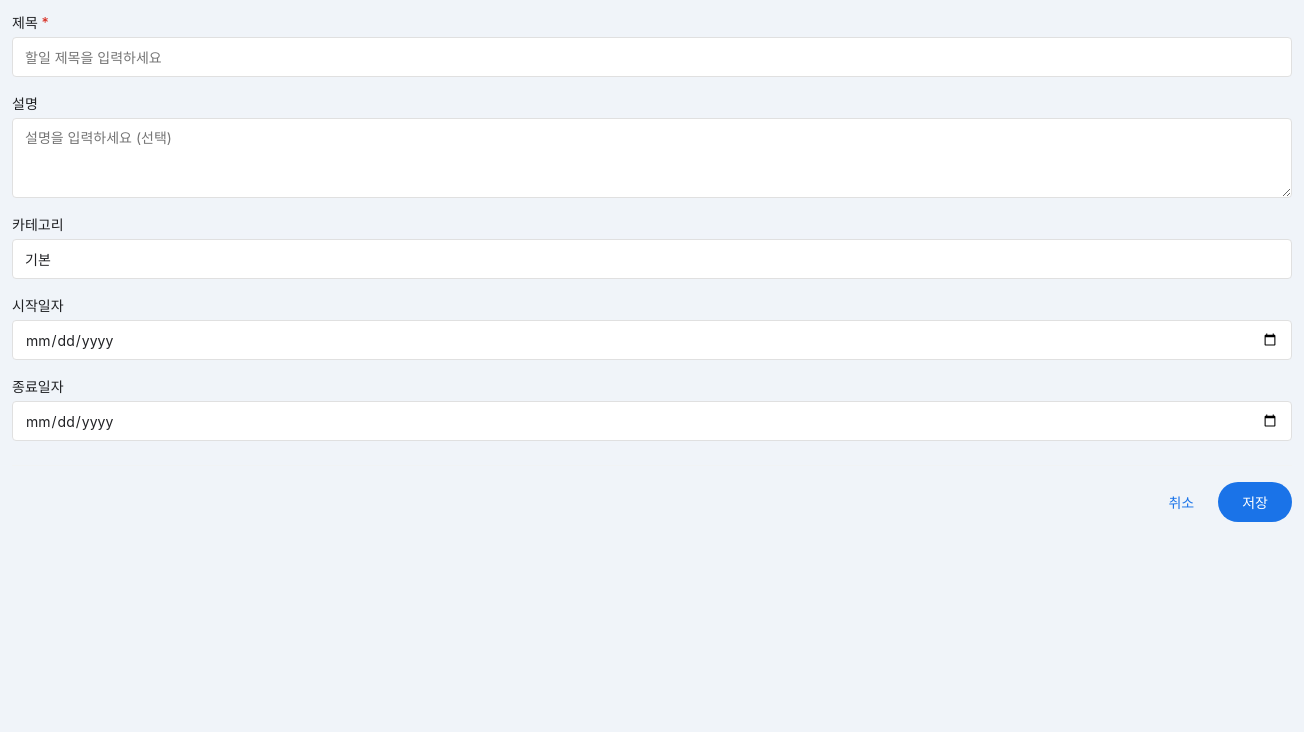
Test case: TodoForm - create 모드 › 제목 없이 저장하면 필수 항목 에러가 표시된다
This screenshot has width=1304, height=732.
Click the button "저장": (1255, 502) x1=1218 y1=482 x2=1292 y2=522
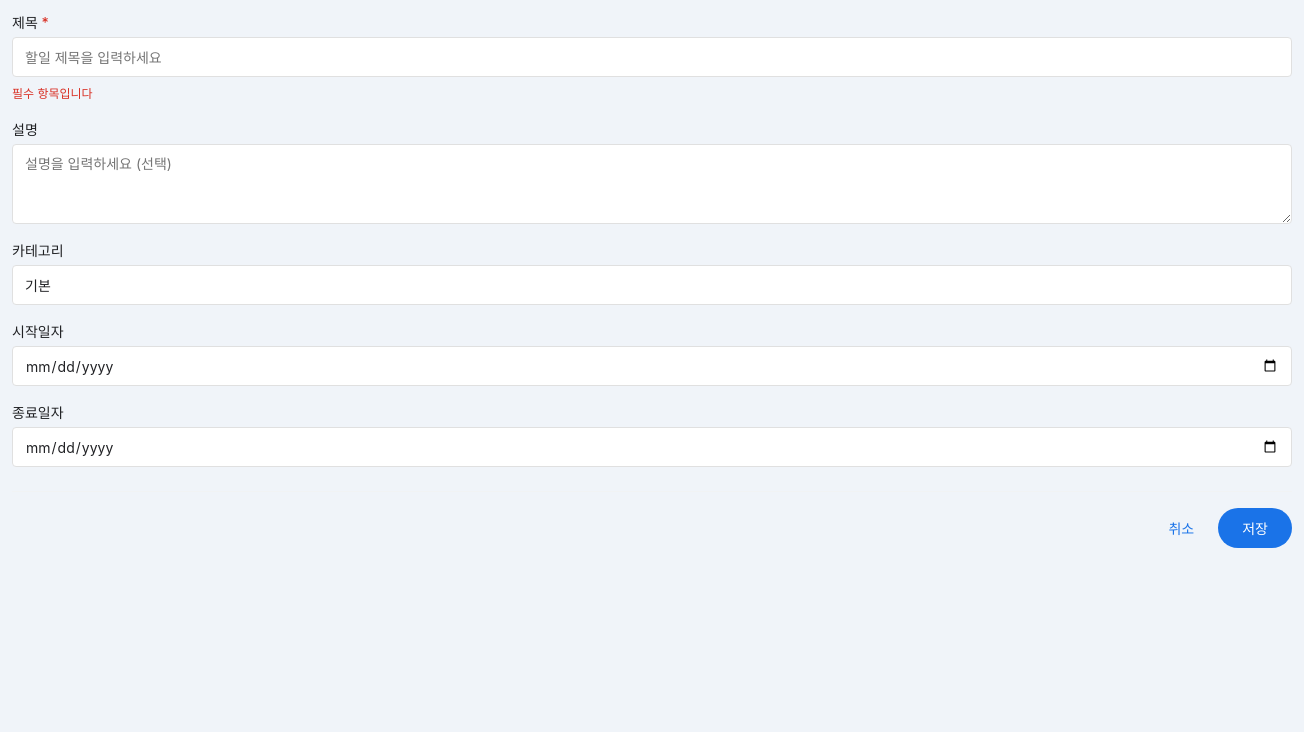
Expected: the text "필수 항목입니다" is shown, x1=12 y1=86 x2=93 y2=101
